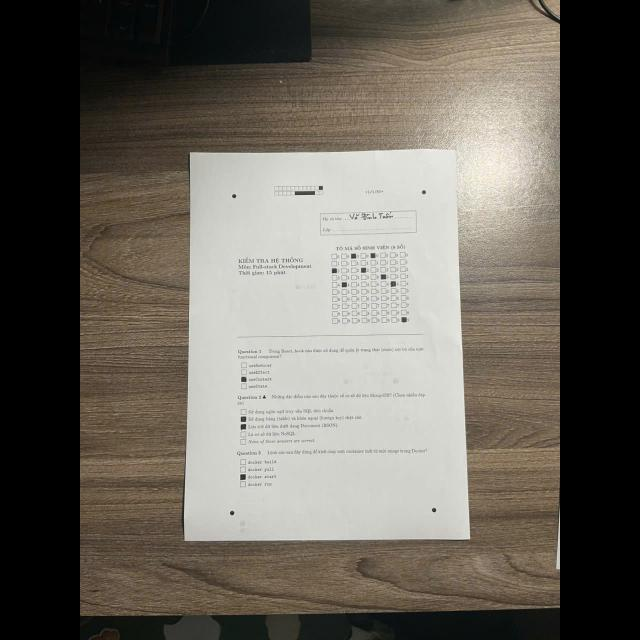Markers: (230, 510, 234, 516), (232, 194, 236, 198), (422, 190, 426, 194), (432, 508, 436, 512)
